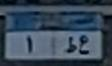1: (24, 34, 38, 54)
Taa: (63, 35, 77, 55)
ain: (78, 34, 92, 56)
